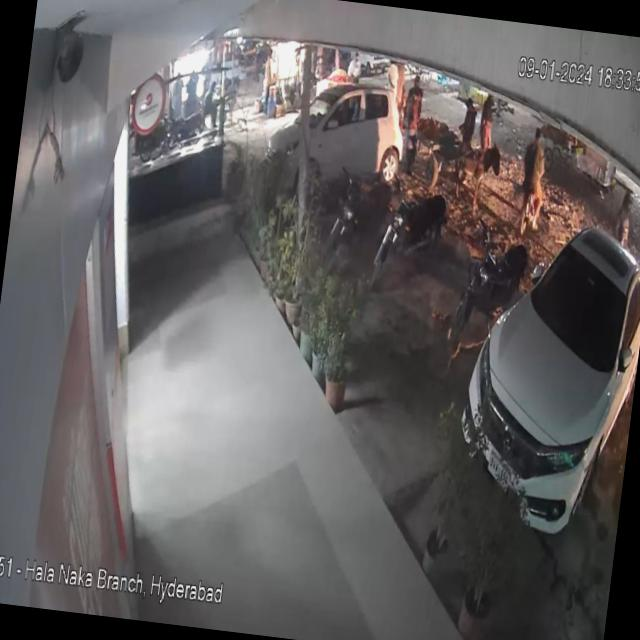Car: (446, 194, 640, 559), (260, 74, 425, 212)
Motorcycle: (371, 168, 456, 304), (443, 218, 517, 350), (324, 172, 392, 278)
